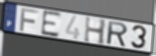3: (129, 24, 149, 50)
4: (64, 14, 82, 41)
E: (40, 9, 63, 39)
F: (18, 7, 40, 33)
H: (83, 15, 108, 46)
R: (107, 20, 129, 49)
